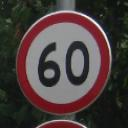speed_limit_60: (16, 10, 111, 114)
